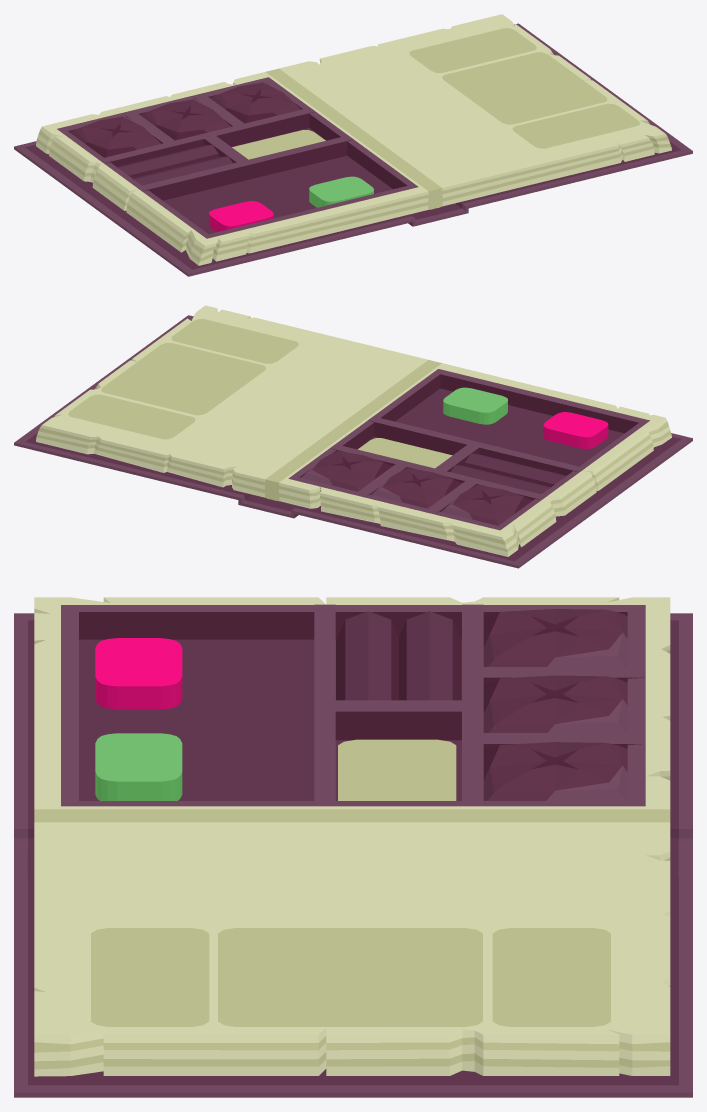
File: case_book.glb
The picture shows the model from 3 angles, top to bottom: view 1: azimuth 30°, elevation 25°; view 2: azimuth 150°, elevation 25°; view 3: azimuth 270°, elevation 25°; orthographic projection. The views are drawn at different scales.
Parts seen in each view (by area): view 1: case_left_cover, case_right_cover, case_bottom_cover; view 2: case_left_cover, case_right_cover, case_bottom_cover; view 3: case_right_cover, case_left_cover, case_bottom_cover.
Boxes of the visible parts, bbox=[...] form: case_left_cover: bbox=[14, 70, 440, 276]; case_right_cover: bbox=[272, 14, 692, 219]; case_bottom_cover: bbox=[412, 202, 465, 223]; case_left_cover: bbox=[266, 361, 692, 568]; case_right_cover: bbox=[14, 305, 434, 511]; case_bottom_cover: bbox=[241, 493, 296, 514]; case_right_cover: bbox=[14, 816, 692, 1097]; case_left_cover: bbox=[14, 597, 692, 861]; case_bottom_cover: bbox=[14, 829, 692, 876].
Size of the model in its own units: 3.74 by 0.2371 by 2.24.
Materials: 1 (1 with a texture image).
